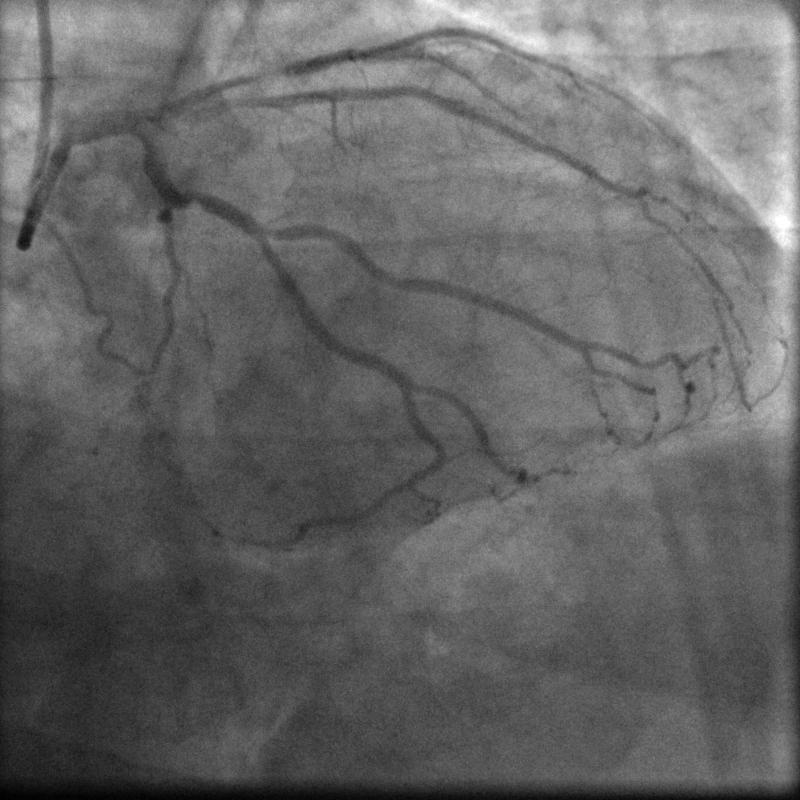Stenosis: (182, 186, 205, 208)
